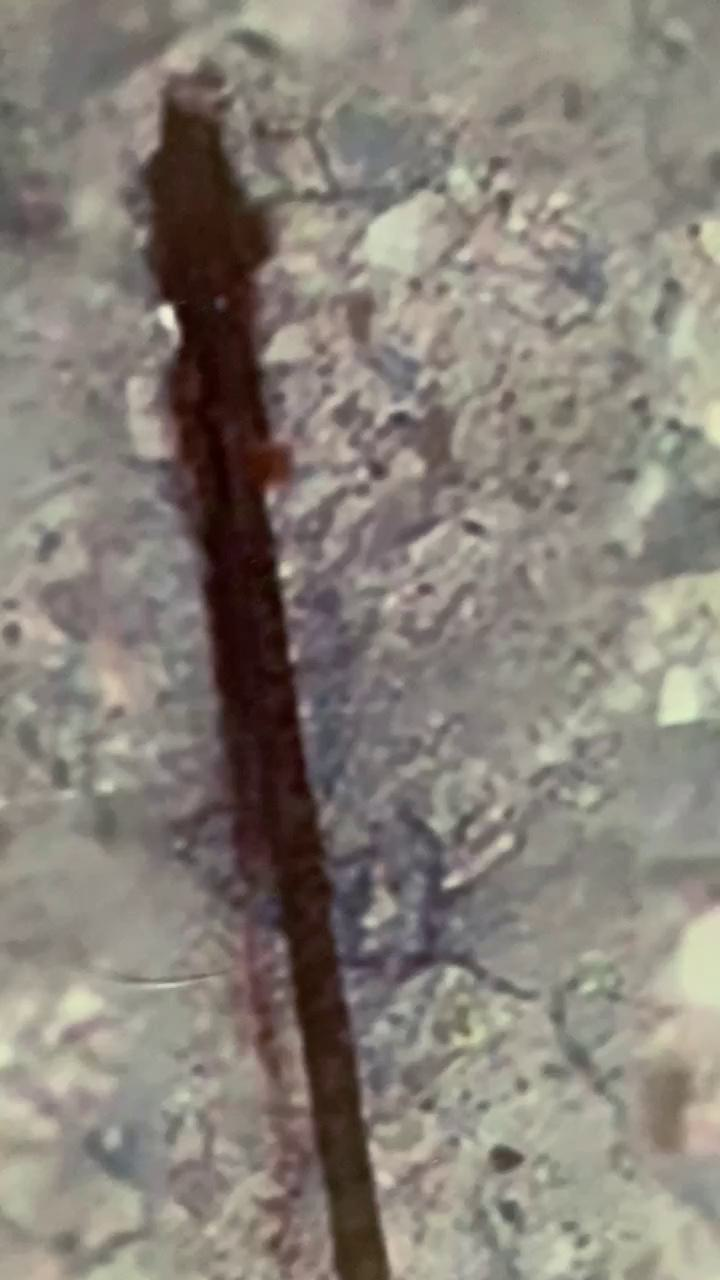Exposed reinforcement: (139, 90, 391, 1280)
